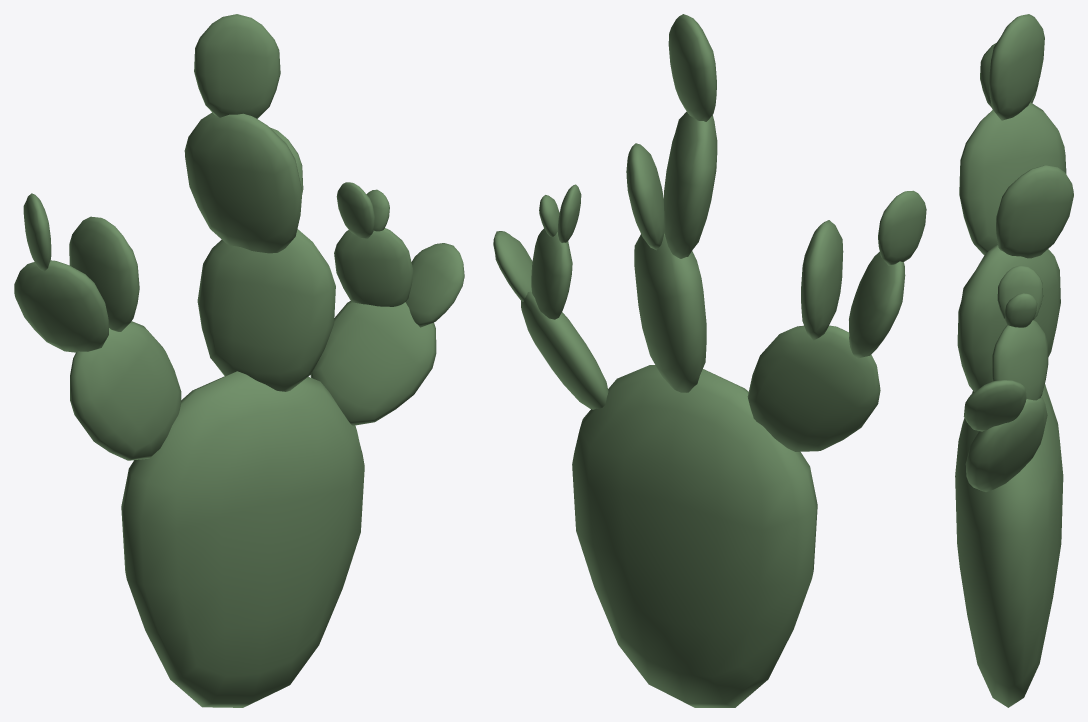
The model's file is CactusSlabs.fbx.
3 views of the same model, side by side, from view 1: azimuth 30°, elevation 25°; view 2: azimuth 150°, elevation 25°; view 3: azimuth 270°, elevation 25° (orthographic).
Parts seen in each view (by area): view 1: Roundcube.006; view 2: Roundcube.006; view 3: Roundcube.006.
Boxes of the visible parts, x1,y1,x2,y2 form: Roundcube.006: [14, 14, 464, 707]; Roundcube.006: [493, 14, 926, 707]; Roundcube.006: [955, 14, 1073, 707].
Bounding box in the file's own units: 99.33 × 154 × 24.33.
